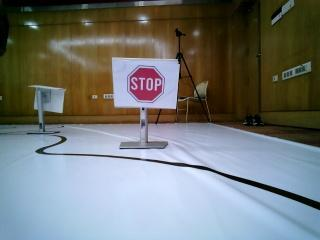stop: (124, 59, 168, 108)
